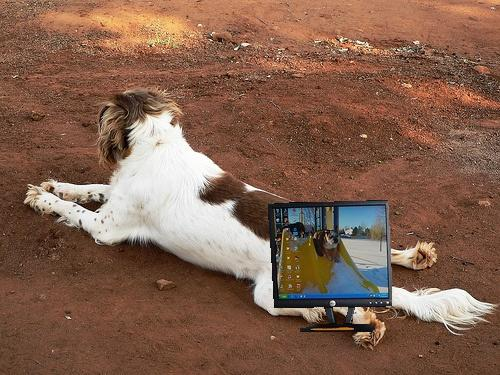tampered: (269, 201, 392, 332)
